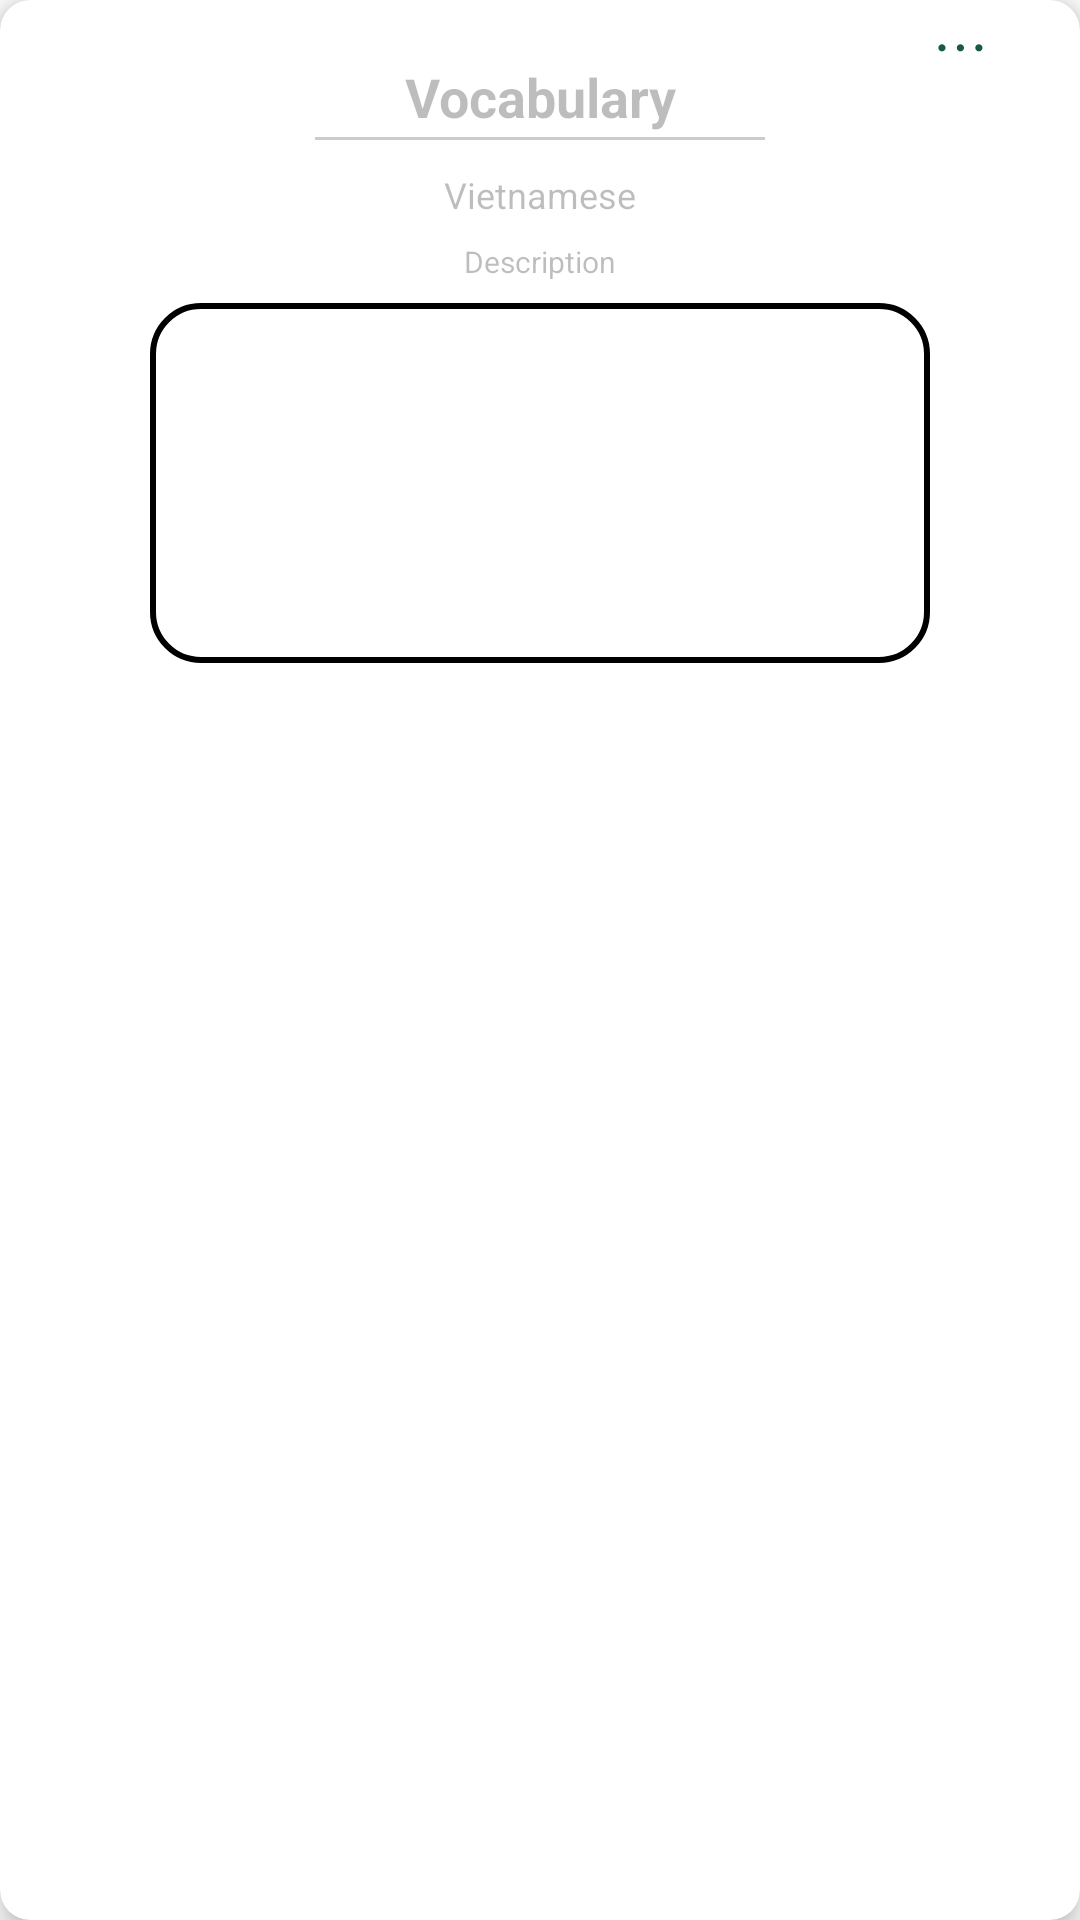

Where to tap for icons on this 1080px×1920px app screen, as (x,y):
option: (960,48)
